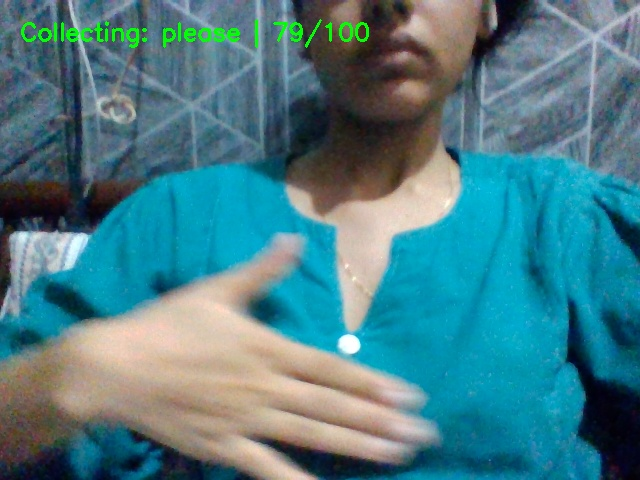please: (85, 225, 495, 480)
